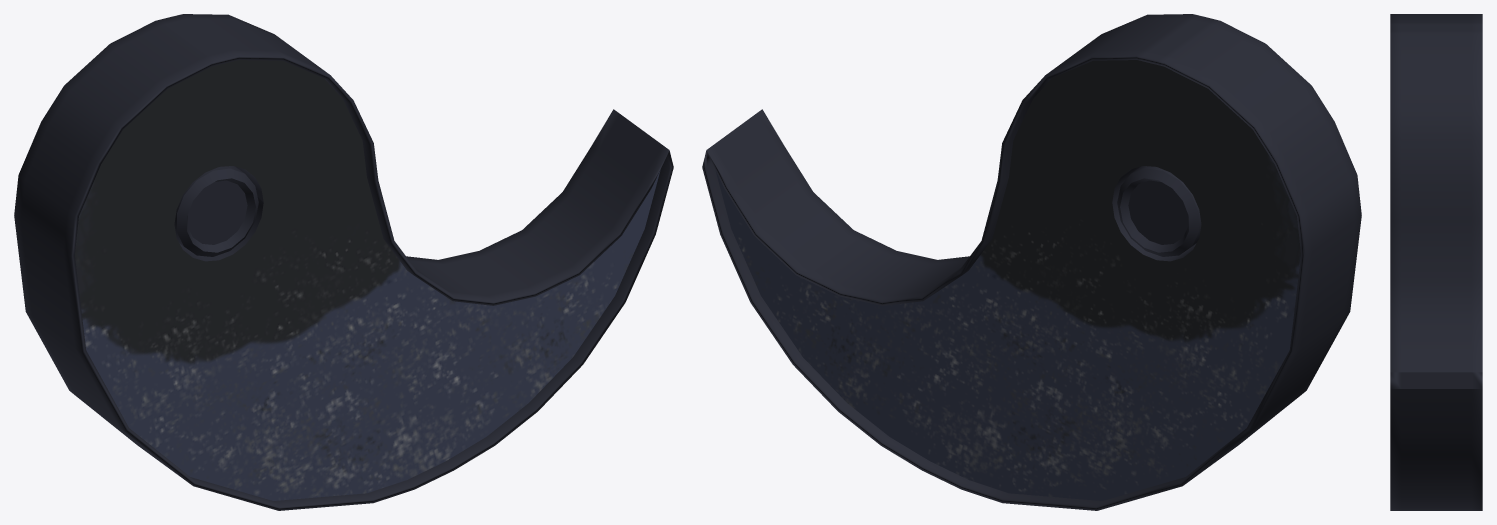
The model's file is dialRAIN.fbx.
3 renders of one model, left to right at view 1: azimuth 30°, elevation 25°; view 2: azimuth 150°, elevation 25°; view 3: azimuth 270°, elevation 25°, orthographic. The views are drawn at different scales.
Parts seen in each view (by area): view 1: pCylinder11; view 2: pCylinder11; view 3: pCylinder11.
Boxes of the visible parts, bbox=[...] form: pCylinder11: bbox=[14, 14, 673, 510]; pCylinder11: bbox=[702, 14, 1361, 510]; pCylinder11: bbox=[1390, 14, 1482, 510].
Size of the model in its own units: 769 by 585 by 124.
